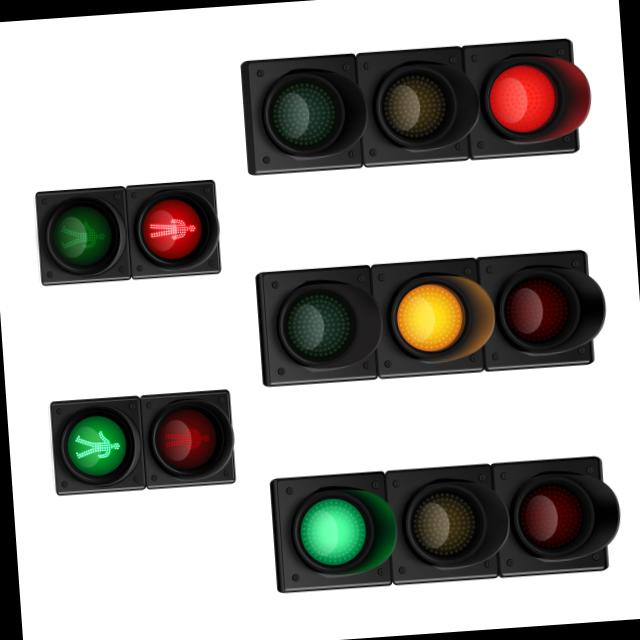green-lights: (274, 473, 387, 598), (48, 392, 144, 494)
red-lights: (464, 35, 582, 158), (133, 188, 217, 276)
yellow-lights: (372, 262, 490, 372)
